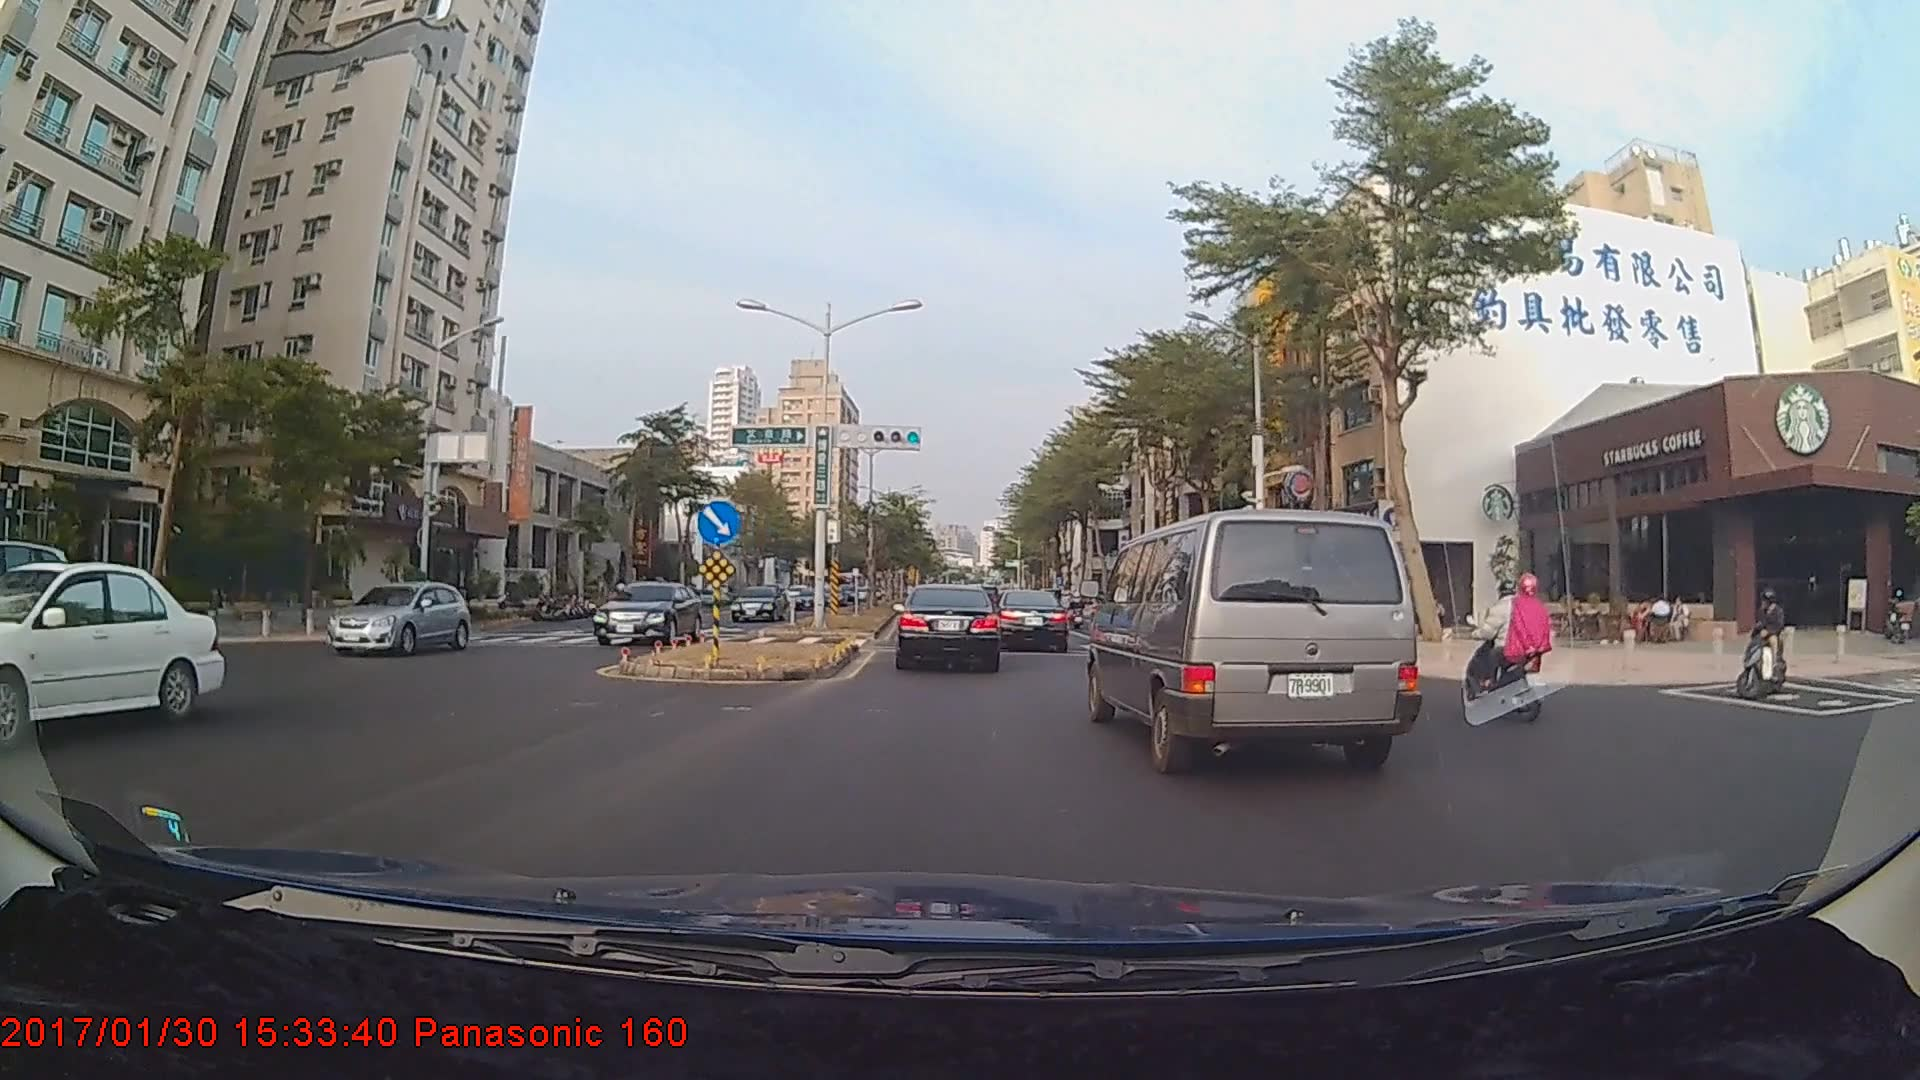rider: (1471, 562, 1575, 720), (1731, 584, 1806, 701)
vehicle: (1094, 500, 1420, 773), (0, 556, 222, 756), (325, 580, 468, 659), (896, 584, 1001, 671), (589, 580, 703, 646), (994, 589, 1071, 650), (727, 581, 786, 621)
